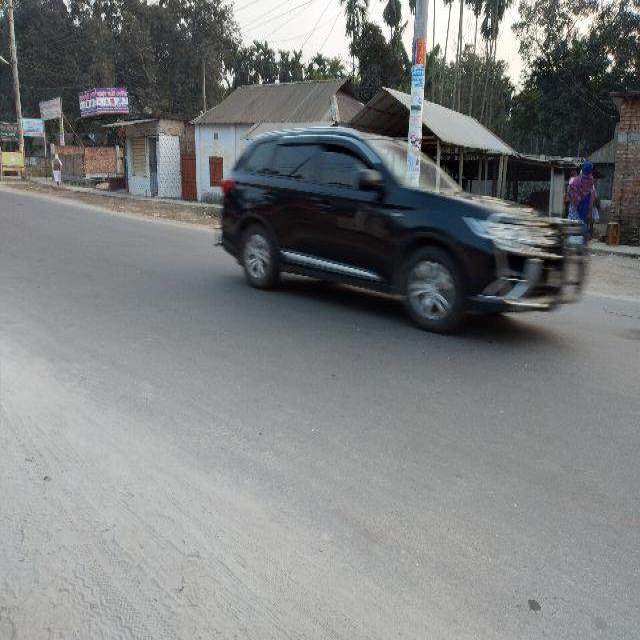vehicle: (210, 126, 600, 340)
